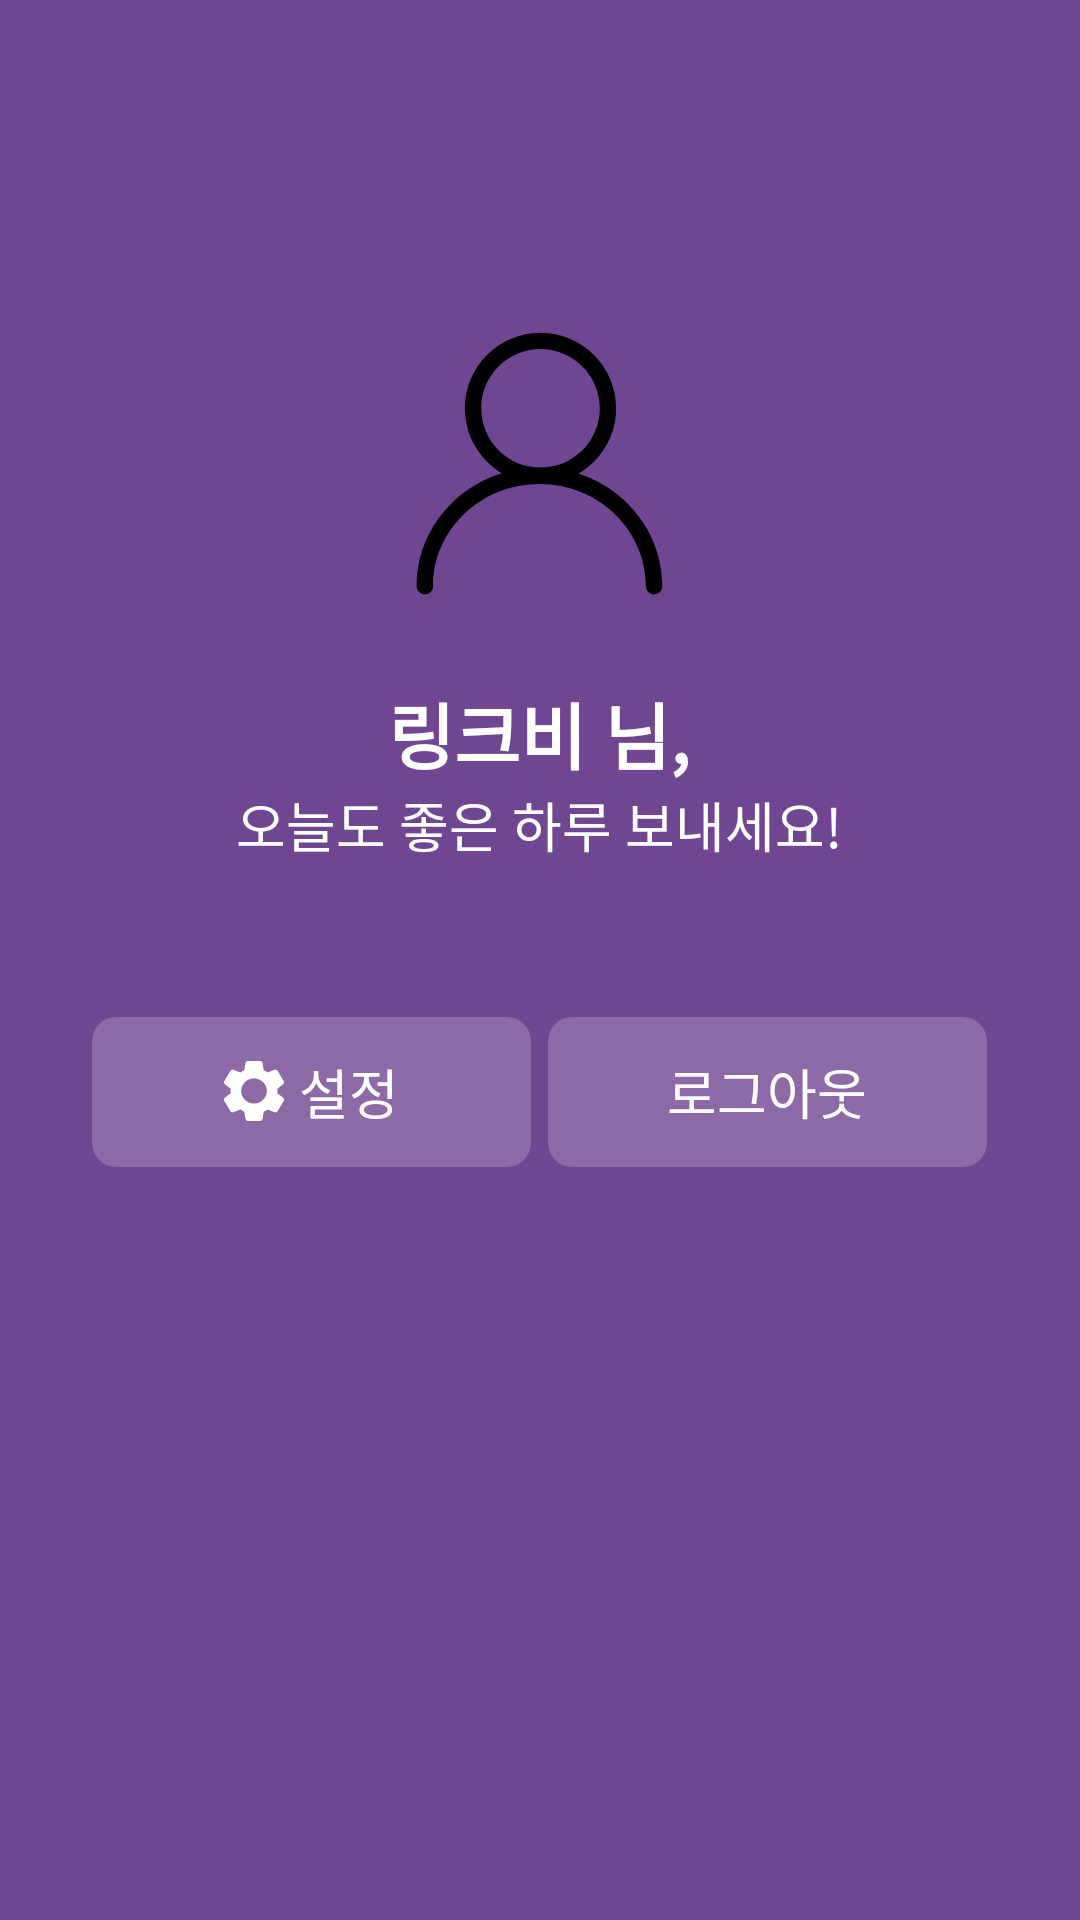

Point at icon controls on the screen. Image size 1080px x 1920px, points as [x,y].
people: [539,463]
